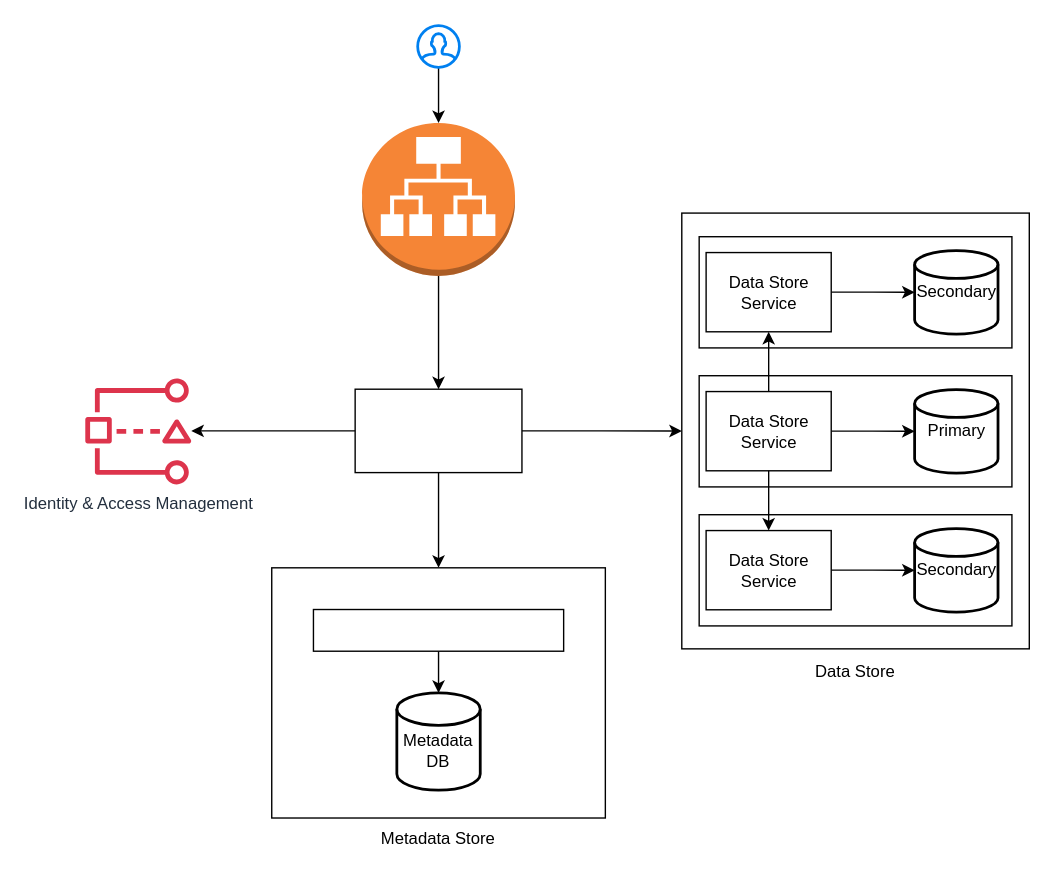
Image size: 1054x883. Some labels were removed from this diagram. Here are the shapes that lost their labels. From the top down, the centre of each, then its label:
the point at 438,430: API Service
the point at 438,629: Metadata Service
